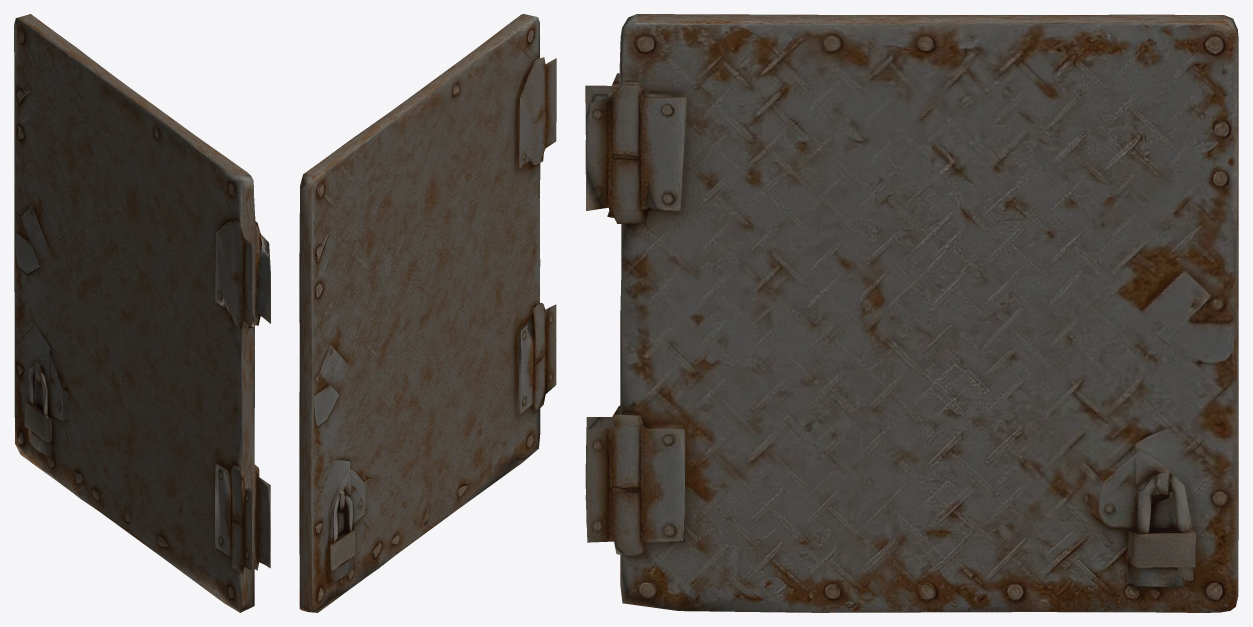
The model's file is bb_hatch.glb.
3 renders of one model, left to right at view 1: azimuth 30°, elevation 25°; view 2: azimuth 150°, elevation 25°; view 3: azimuth 270°, elevation 25°, orthographic. The views are drawn at different scales.
Visible parts, largest first — view 1: bb_hatch; view 2: bb_hatch; view 3: bb_hatch.
Boxes of the visible parts, x1=… form: bb_hatch: x1=14, y1=14, x2=270, y2=612; bb_hatch: x1=299, y1=14, x2=556, y2=612; bb_hatch: x1=585, y1=14, x2=1238, y2=612.
Size of the model in its own units: 0.0599 by 1 by 1.
1 material, 1 textured.
